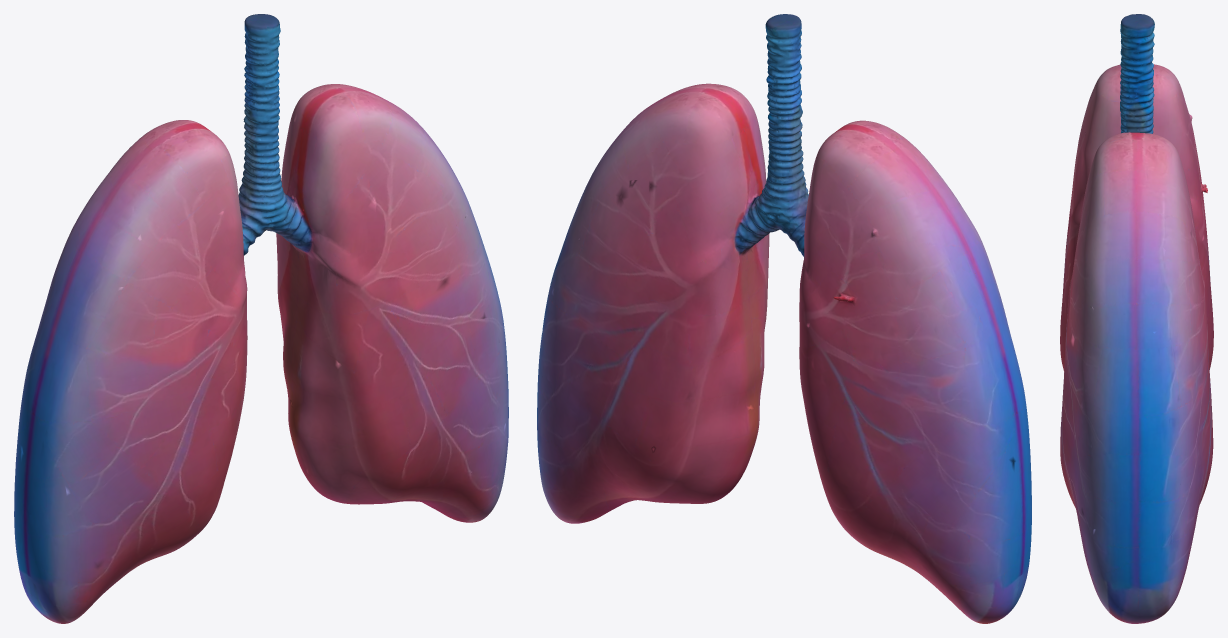
The model's file is lungs.glb.
3 renders of one model, left to right at view 1: azimuth 30°, elevation 25°; view 2: azimuth 150°, elevation 25°; view 3: azimuth 270°, elevation 25°, orthographic. The views are drawn at different scales.
Bounding box in the file's own units: 1.81 × 2 × 0.5463.
Materials: 1 (1 with a texture image).
